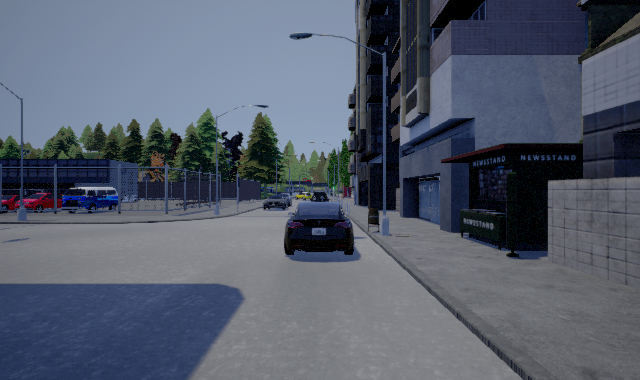vehicle: (284, 201, 353, 255), (59, 187, 118, 213), (23, 193, 59, 210), (263, 192, 285, 210)
